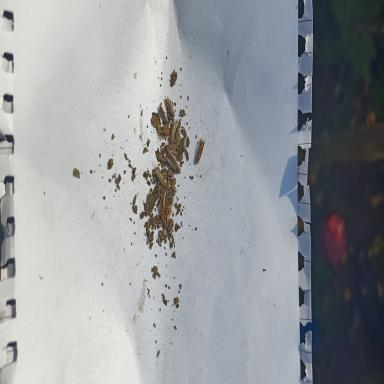pbw: (152, 158, 168, 186), (166, 146, 181, 175), (195, 136, 206, 166), (163, 199, 173, 227), (164, 94, 175, 118), (169, 119, 179, 143), (159, 191, 167, 218), (156, 123, 170, 138), (164, 142, 178, 156)
